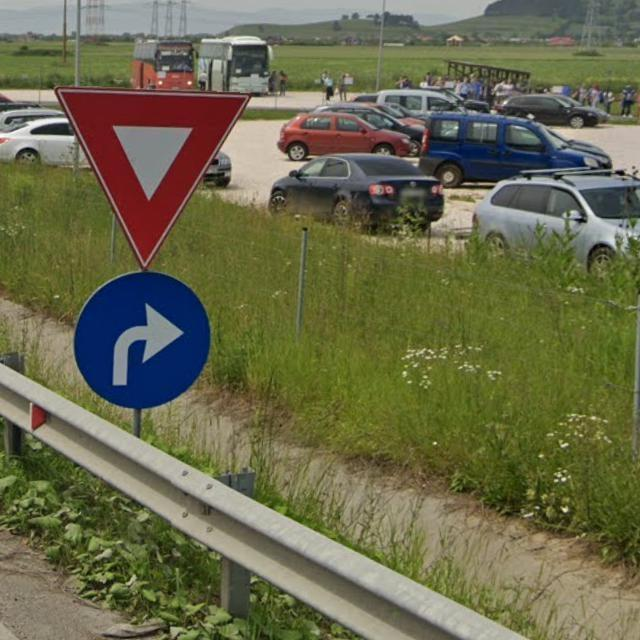prio_give_way: (48, 83, 248, 272)
